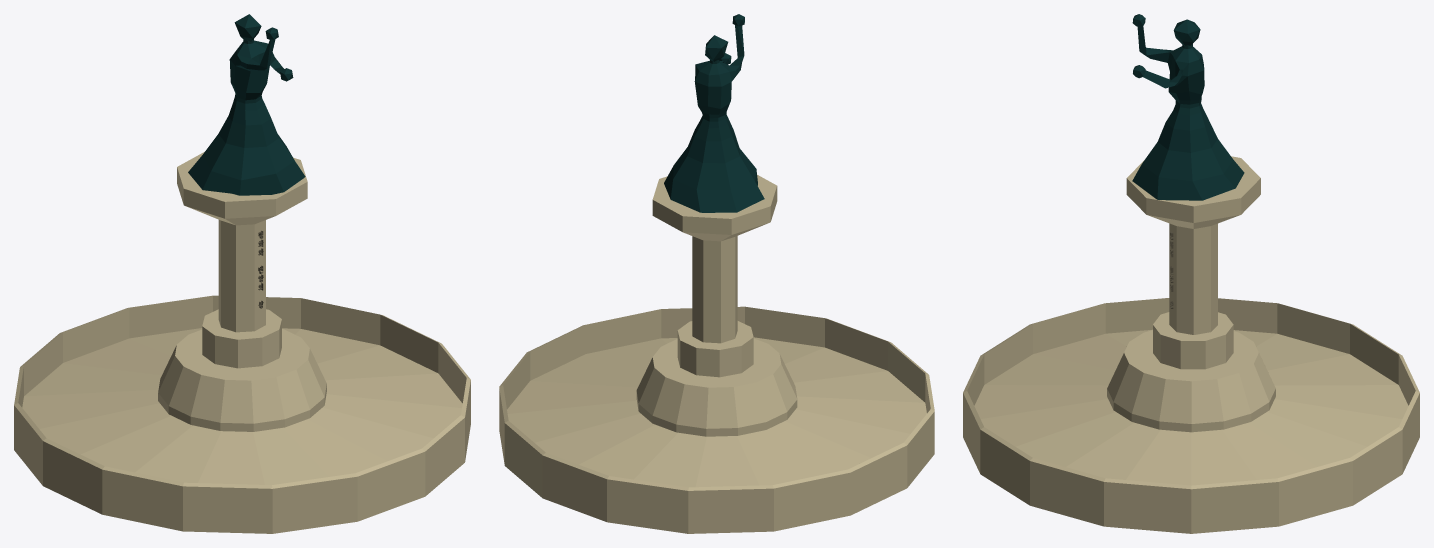
Rendered from fountain.fbx.
3 renders of one model, left to right at view 1: azimuth 30°, elevation 25°; view 2: azimuth 150°, elevation 25°; view 3: azimuth 270°, elevation 25°, orthographic. The views are drawn at different scales.
Visible parts, largest first — view 1: Cylinder, Icosphere.003; view 2: Cylinder, Icosphere.003; view 3: Cylinder, Icosphere.003.
Boxes of the visible parts, <box> form: Cylinder: <box>14,151,470,533</box>; Icosphere.003: <box>188,14,305,195</box>; Cylinder: <box>499,174,934,533</box>; Icosphere.003: <box>664,14,764,212</box>; Cylinder: <box>963,156,1419,533</box>; Icosphere.003: <box>1132,14,1244,200</box>.
Bounding box in the file's own units: 3366 × 3454 × 3366.
